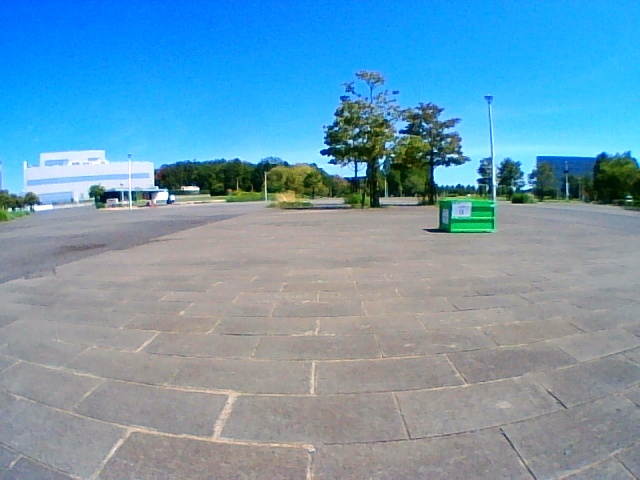green_box: (439, 197, 495, 231)
tag: (453, 203, 470, 216)
